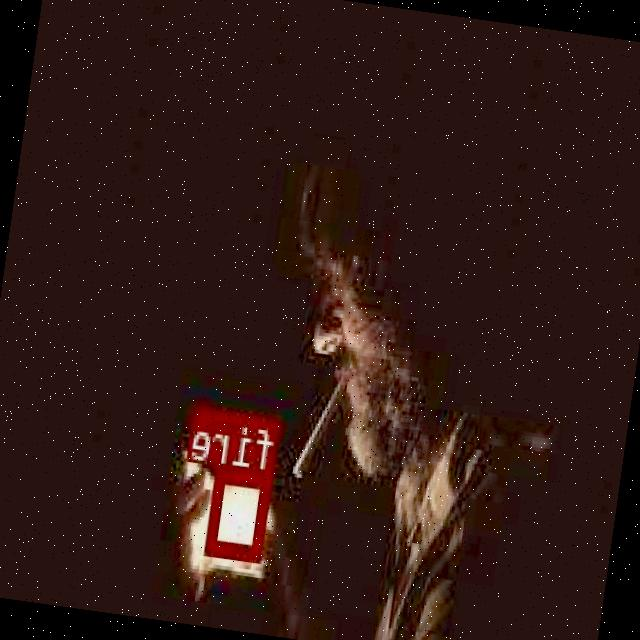fire: (208, 466, 276, 560)
